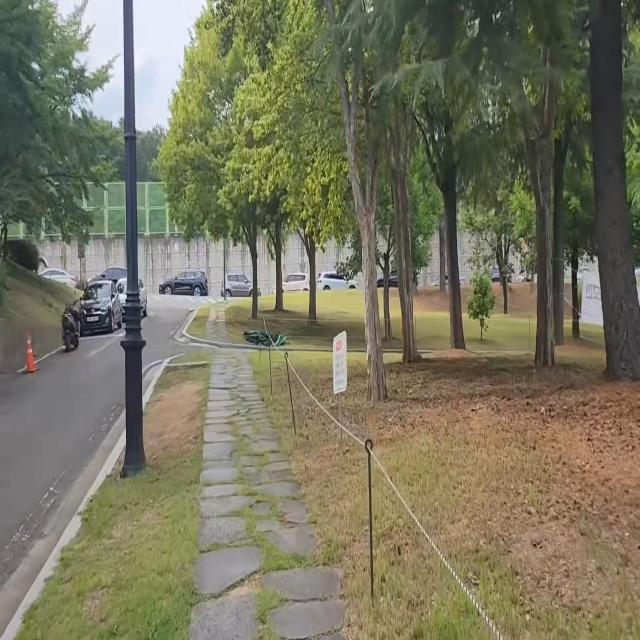obstacle: (121, 0, 149, 492), (56, 268, 127, 363), (26, 326, 39, 378)
road: (0, 299, 202, 637)
sidewalk: (188, 353, 366, 640)
